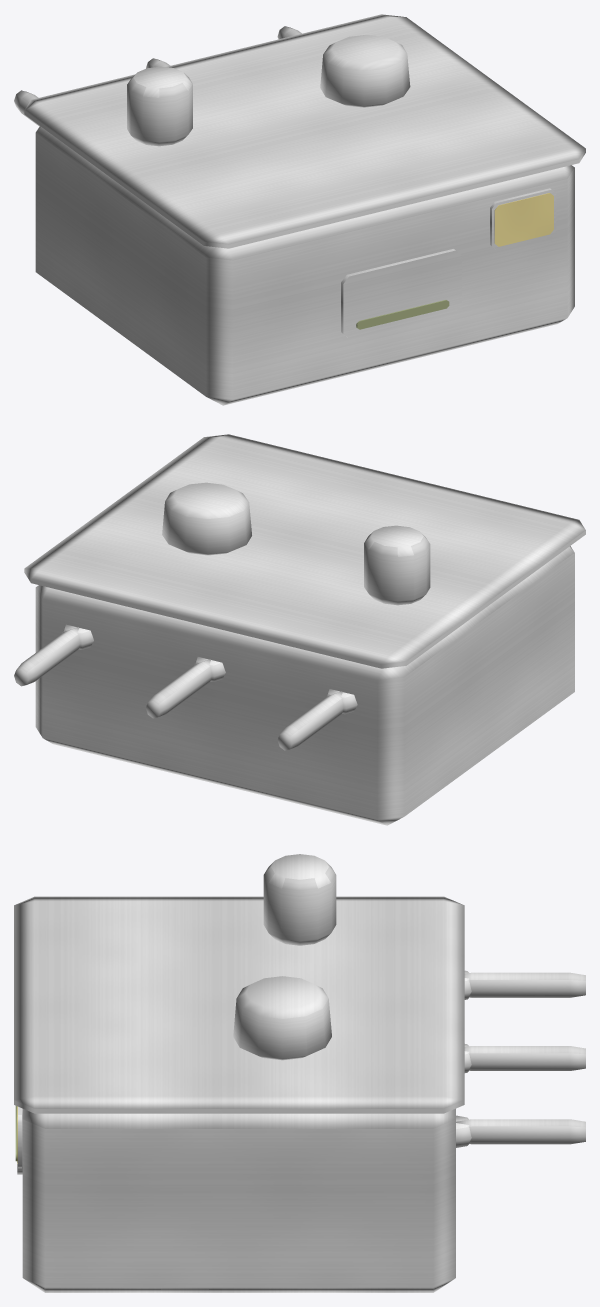
File: paste_dispenser.obj
The picture shows the model from 3 angles, top to bottom: view 1: azimuth 30°, elevation 25°; view 2: azimuth 150°, elevation 25°; view 3: azimuth 270°, elevation 25°; orthographic projection. The views are drawn at different scales.
Parts seen in each view (by area): view 1: dispenser_body, dispenser_top, output_recess, right_top_hopper, left_top_hopper, control_indicator, paste_serving, control_panel_frame; view 2: dispenser_body, dispenser_top, right_top_hopper, left_top_hopper, hopper_feed_pipe_2, hopper_feed_pipe_1, hopper_feed_pipe_3; view 3: dispenser_top, dispenser_body, right_top_hopper, left_top_hopper, hopper_feed_pipe_3, hopper_feed_pipe_1, hopper_feed_pipe_2.
Part boxes in pixels (x1,y1,x2,y2): dispenser_body: [35, 126, 574, 405]; dispenser_top: [24, 14, 585, 248]; output_recess: [341, 249, 461, 338]; right_top_hopper: [320, 35, 410, 107]; left_top_hopper: [127, 66, 192, 146]; control_indicator: [494, 193, 553, 246]; paste_serving: [356, 300, 449, 329]; control_panel_frame: [490, 188, 556, 249]; dispenser_body: [35, 546, 574, 825]; dispenser_top: [24, 434, 585, 668]; right_top_hopper: [162, 482, 251, 555]; left_top_hopper: [364, 525, 430, 605]; hopper_feed_pipe_2: [146, 659, 212, 718]; hopper_feed_pipe_1: [277, 691, 343, 750]; hopper_feed_pipe_3: [14, 627, 80, 686]; dispenser_top: [14, 896, 464, 1113]; dispenser_body: [22, 1108, 455, 1292]; right_top_hopper: [233, 976, 331, 1060]; left_top_hopper: [263, 854, 336, 945]; hopper_feed_pipe_3: [456, 1119, 585, 1144]; hopper_feed_pipe_1: [464, 972, 585, 997]; hopper_feed_pipe_2: [464, 1046, 585, 1070].
Bounding box in the file's own units: 2.9 × 1.7 × 3.3.
